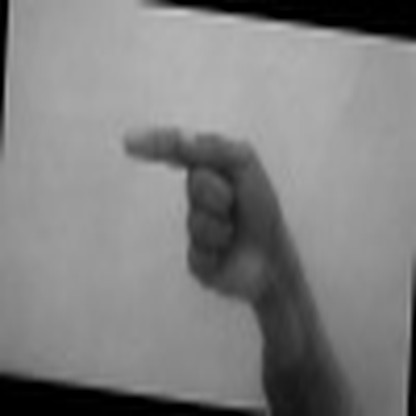g: (109, 115, 297, 299)
